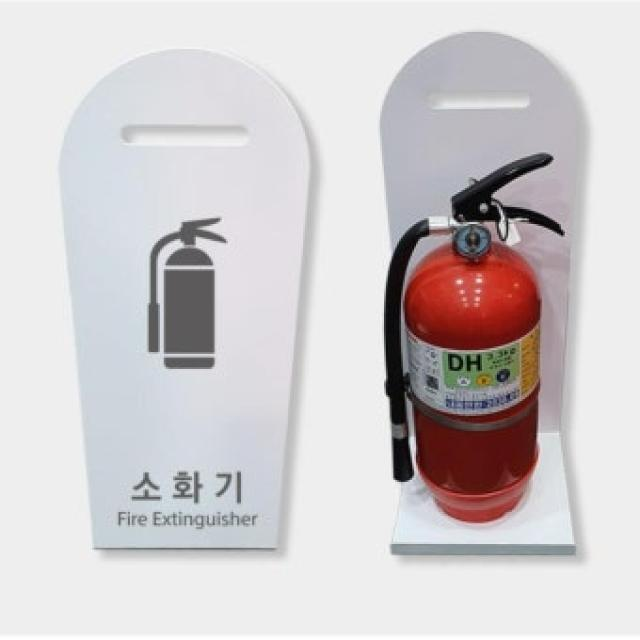pressure gauge: (454, 223, 491, 259)
